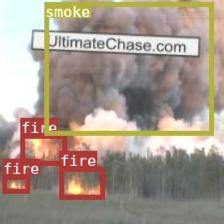fire: (59, 166, 104, 198), (20, 134, 66, 164), (2, 174, 29, 192)
smoke: (44, 1, 214, 134)
